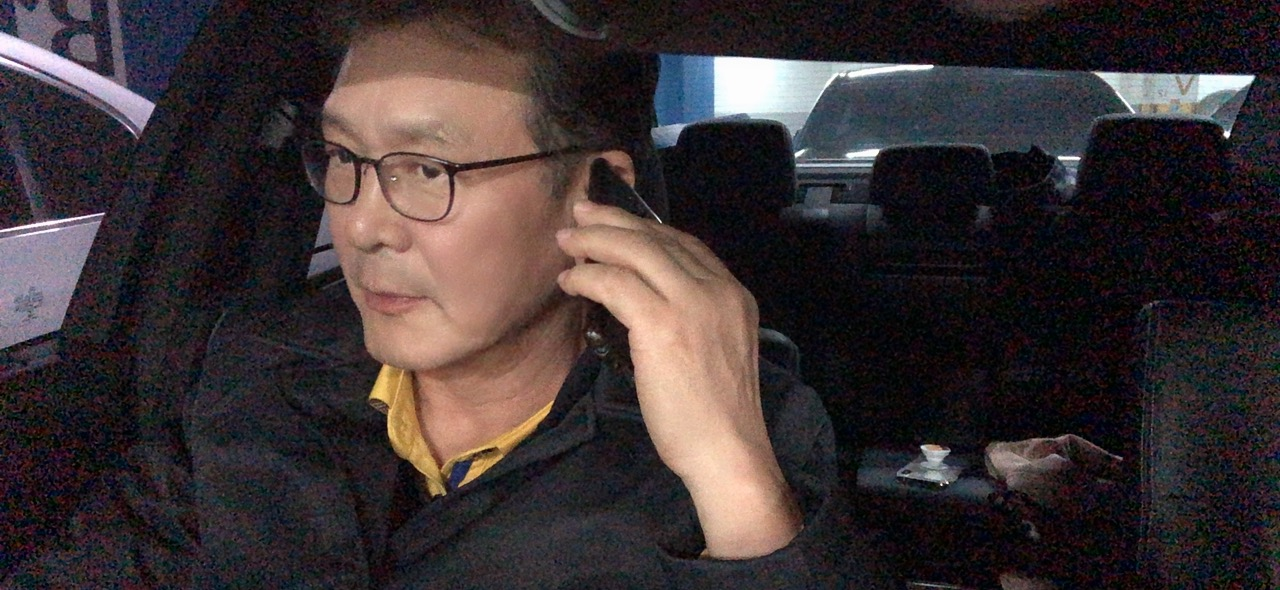phone: (85, 7, 851, 590)
